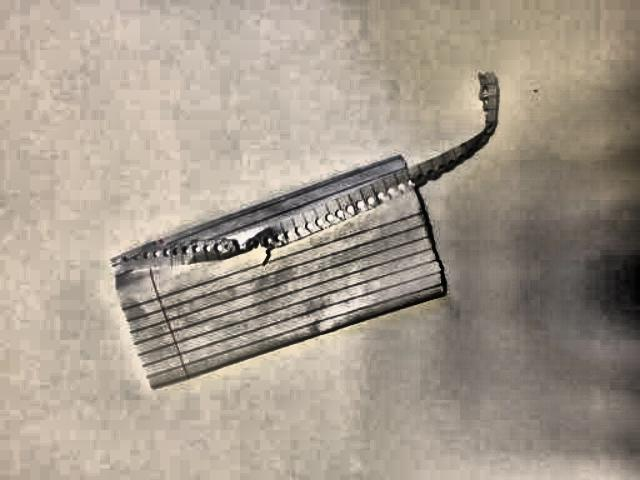Paper: (95, 59, 506, 373)
